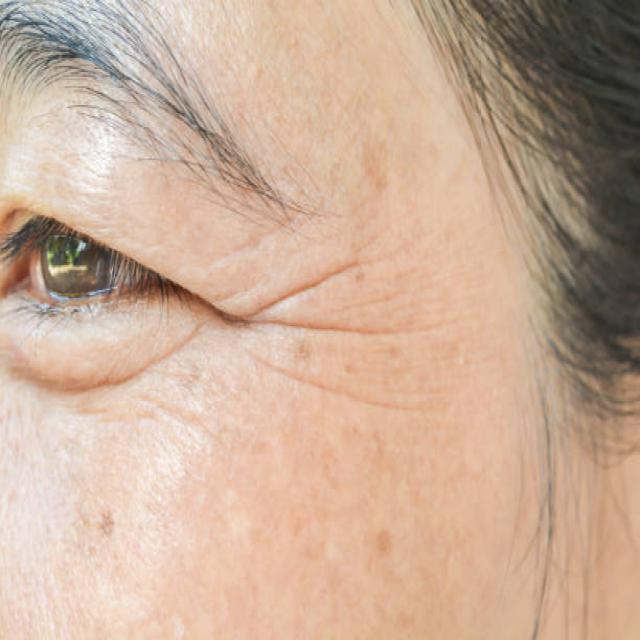dry: (238, 215, 506, 607)
